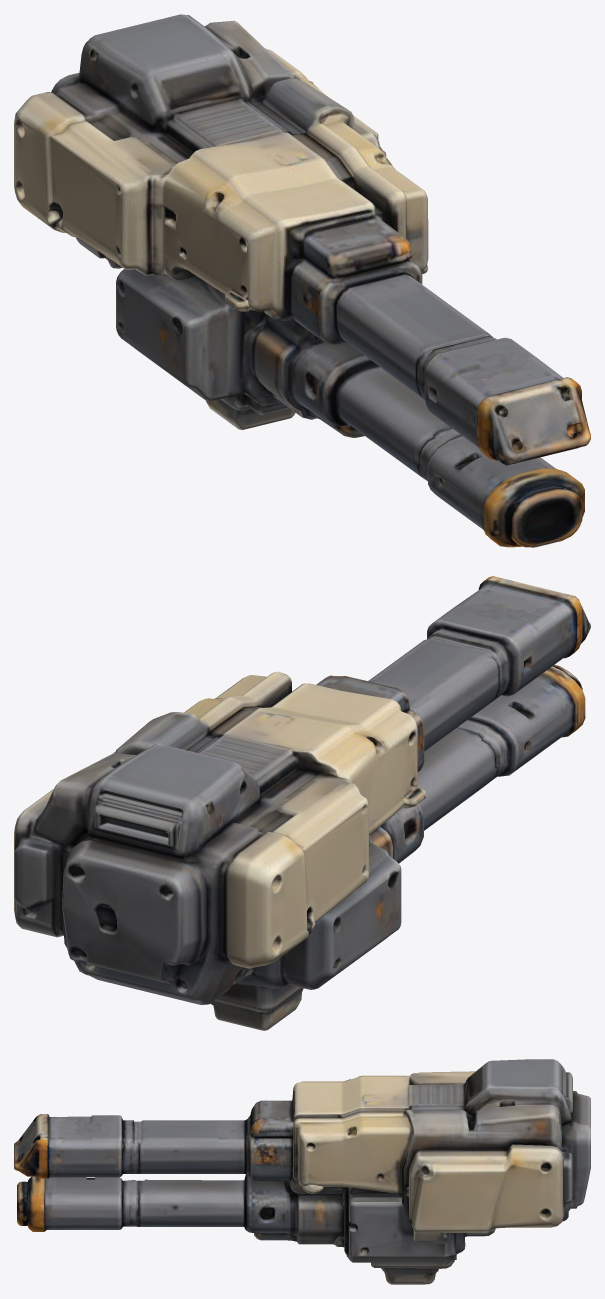
File: 04_Main_Cannon.glb
The picture shows the model from 3 angles, top to bottom: view 1: azimuth 30°, elevation 25°; view 2: azimuth 150°, elevation 25°; view 3: azimuth 270°, elevation 25°; orthographic projection. The views are drawn at different scales.
Visible parts, largest first — view 1: 04_Main_Cannon; view 2: 04_Main_Cannon; view 3: 04_Main_Cannon.
Boxes of the visible parts, left/top/right/bottom form: 04_Main_Cannon: left=14, top=14, right=590, bottom=547; 04_Main_Cannon: left=14, top=576, right=590, bottom=1030; 04_Main_Cannon: left=14, top=1059, right=590, bottom=1284.
Bounding box in the file's own units: 0.3599 × 0.3882 × 0.9995.
1 material, 1 textured.
